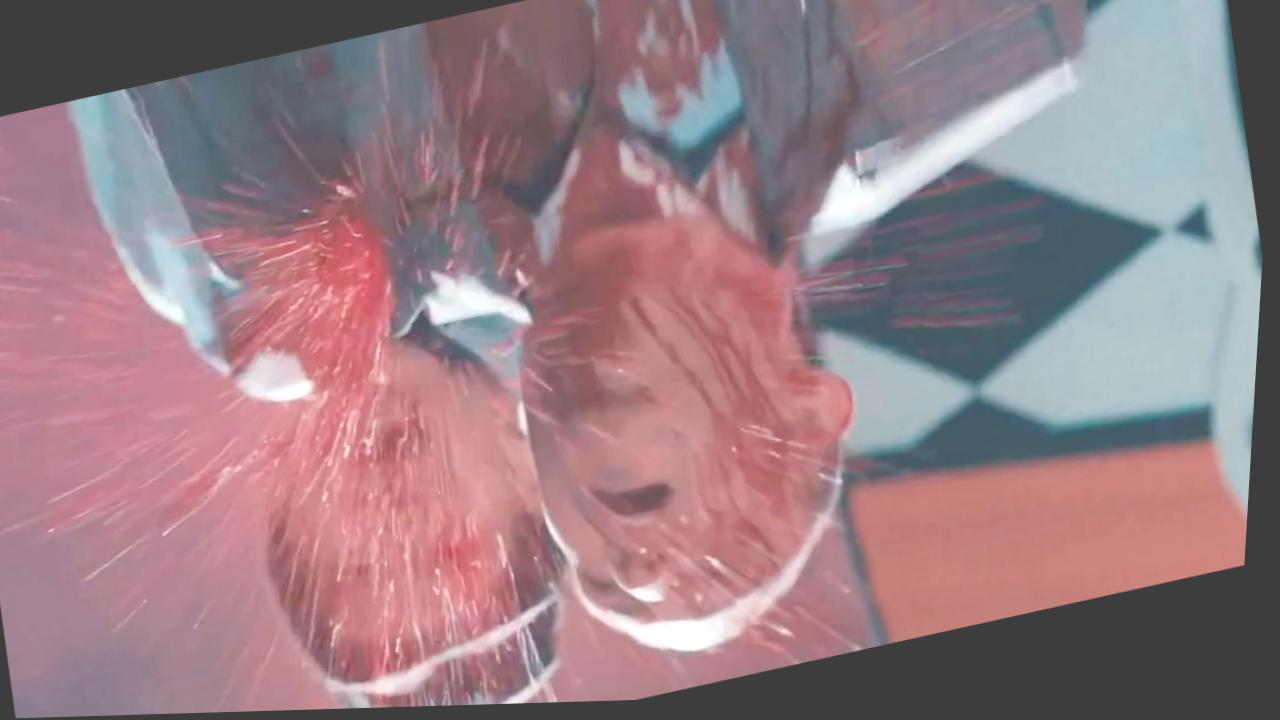Fire: (0, 0, 1088, 713)
